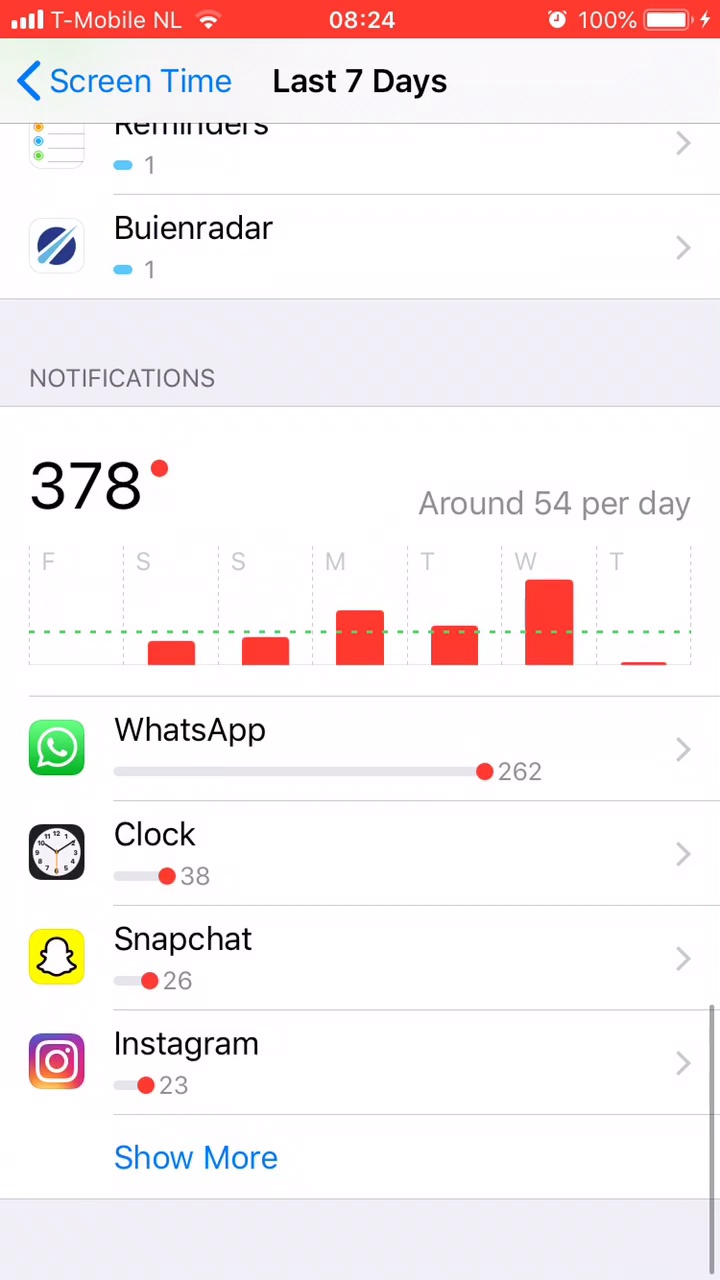not_app: (12, 696, 576, 799), (14, 1018, 291, 1116), (11, 911, 268, 1010), (15, 803, 234, 899)
not_over: (21, 327, 223, 528)
pick_app: (20, 203, 295, 292)
week: (260, 60, 460, 103)
